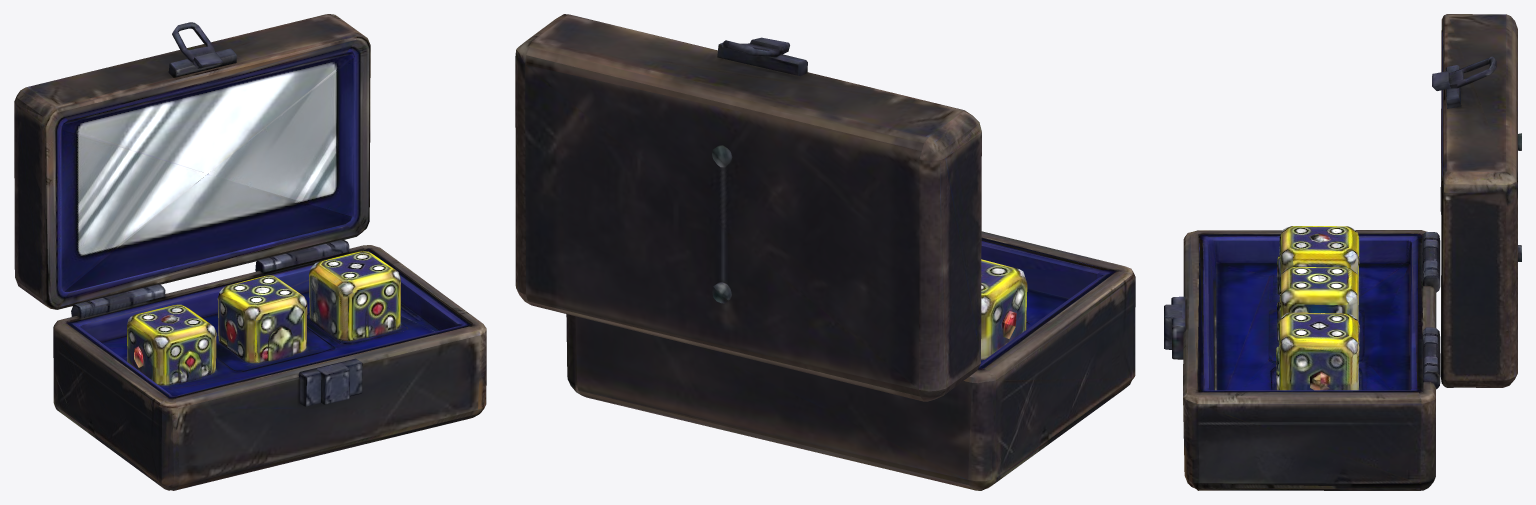
File: jewelry_box.glb
3 views of the same model, side by side, from view 1: azimuth 30°, elevation 25°; view 2: azimuth 150°, elevation 25°; view 3: azimuth 270°, elevation 25° (orthographic). The views are drawn at different scales.
Bounding box in the file's own units: 1 × 0.9648 × 0.8867.
1 material, 1 textured.
